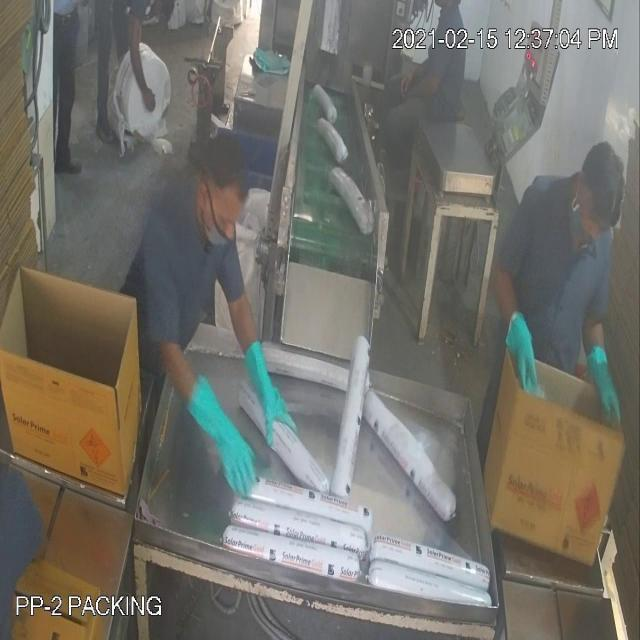Gloves: (38, 68, 607, 434)
